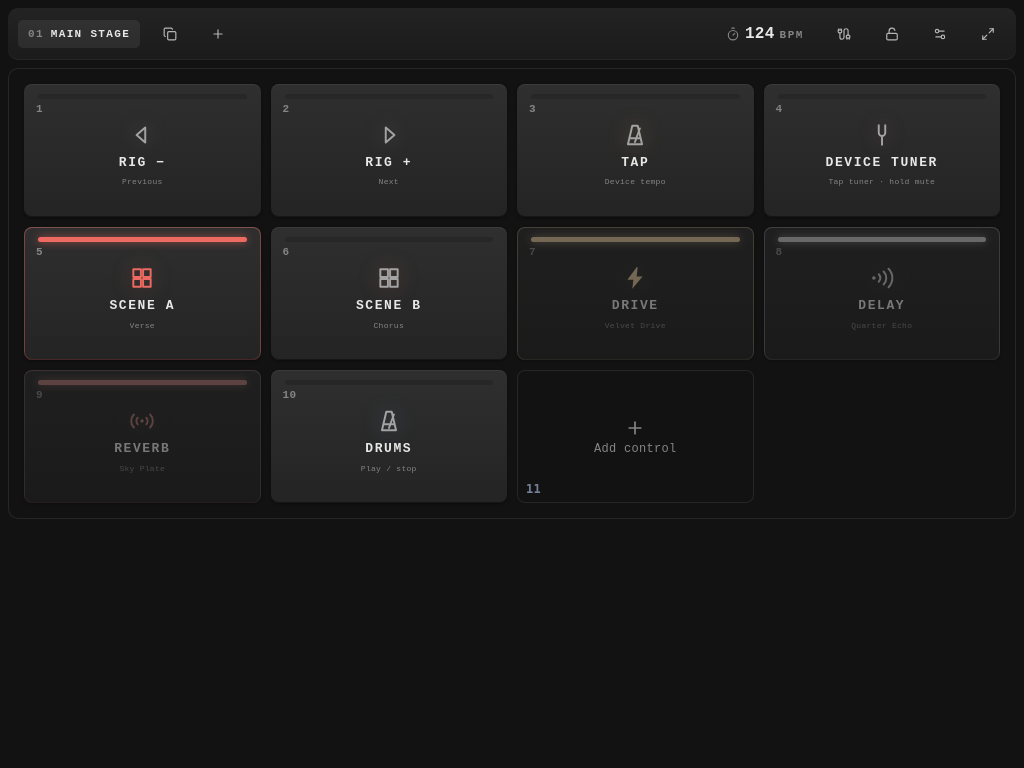
Test case: Stage conditional UI › shows an orphaned rig link without presenting a load action
Click the button named "edit layout": click(940, 34) [922, 16, 958, 52]
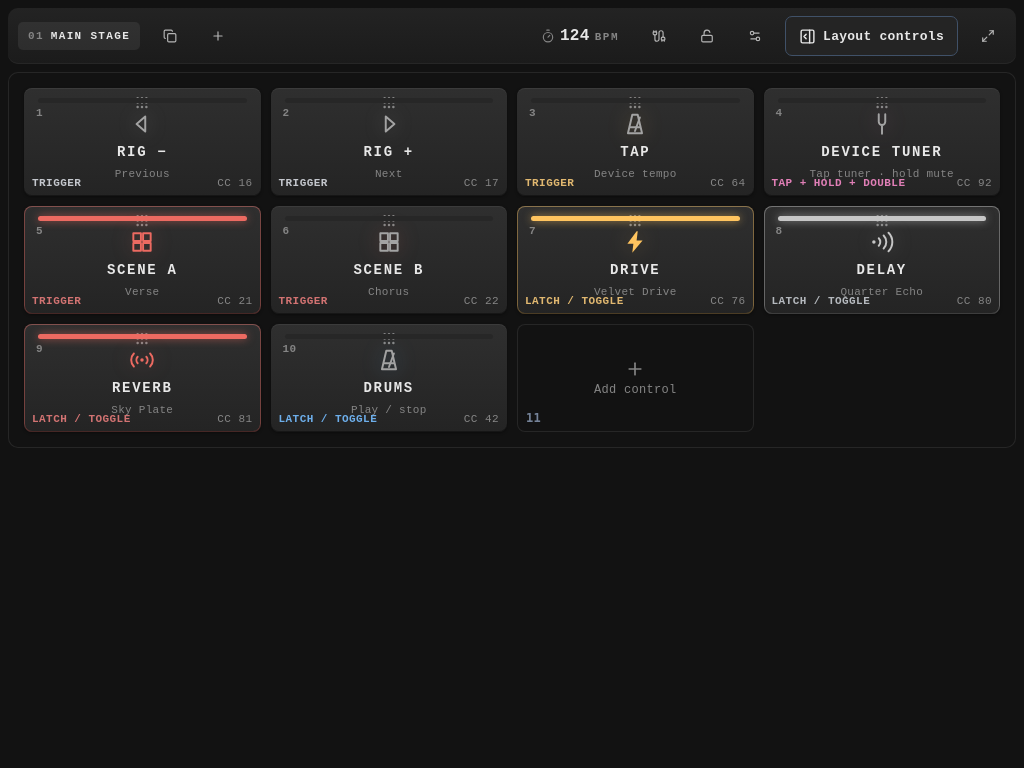
Click the button "Add control 11": click(635, 378) [517, 324, 754, 432]
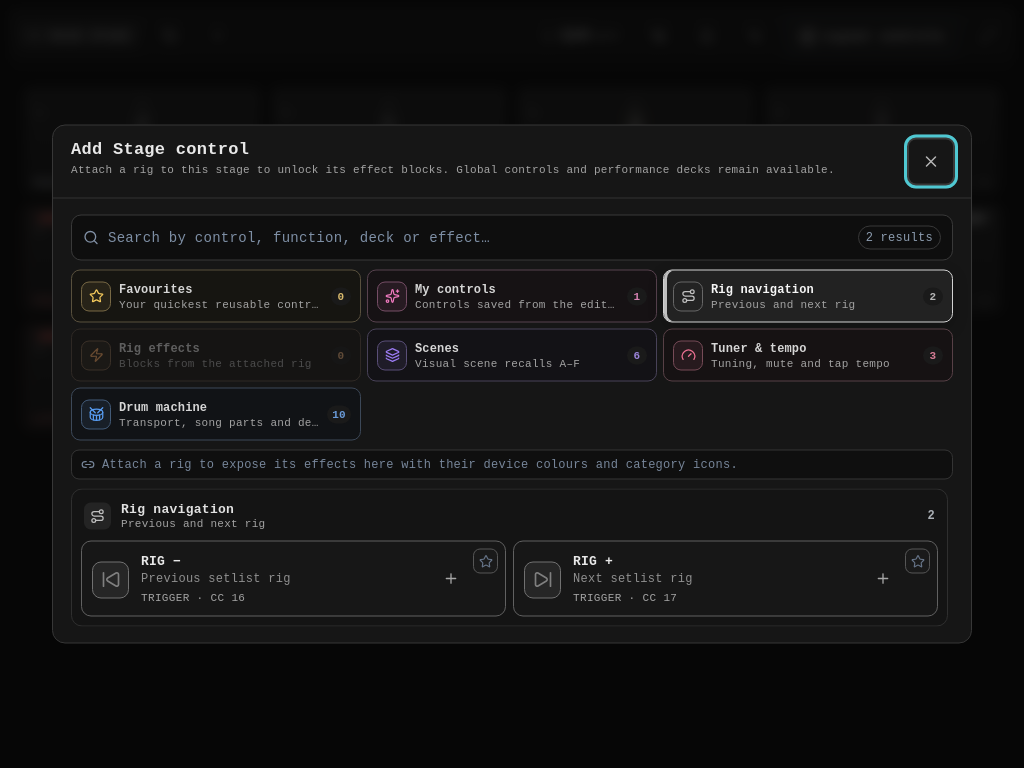
Expected: the tab "Rig effects Blocks from the attached rig 0" is disabled, [71, 328, 361, 382]
